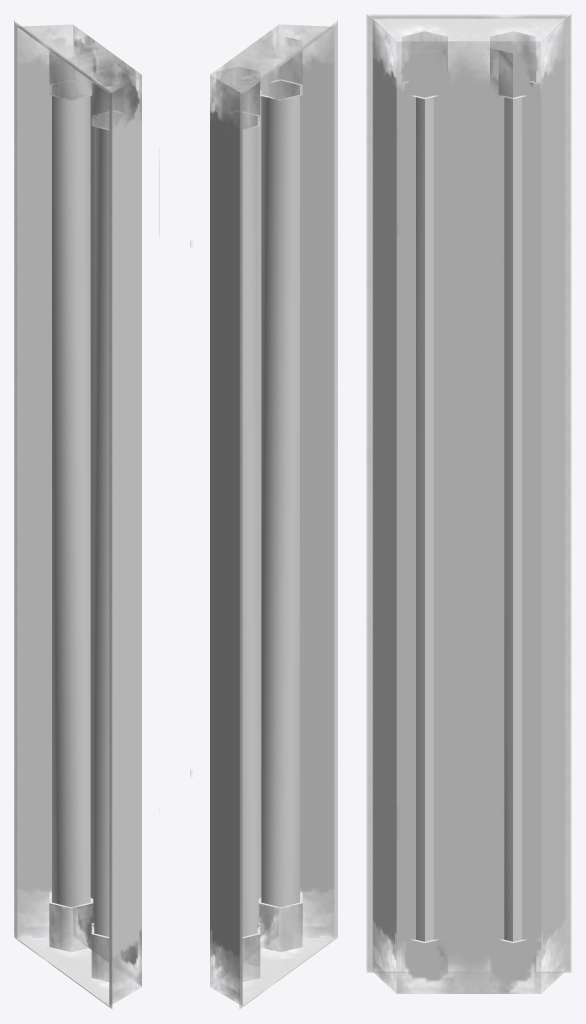
File: props_lights_light_fluorescent_basement.glb
3 renders of one model, left to right at view 1: azimuth 30°, elevation 25°; view 2: azimuth 150°, elevation 25°; view 3: azimuth 270°, elevation 25°, orthographic. The views are drawn at different scales.
Parts seen in each view (by area): view 1: models/props_lights/light_fluorescent_basement; view 2: models/props_lights/light_fluorescent_basement; view 3: models/props_lights/light_fluorescent_basement.
Part boxes in pixels (bbox=[...]): models/props_lights/light_fluorescent_basement: bbox=[14, 20, 141, 1008]; models/props_lights/light_fluorescent_basement: bbox=[190, 20, 337, 1008]; models/props_lights/light_fluorescent_basement: bbox=[366, 14, 571, 993].
Size of the model in its own units: 5.98 by 63.78 by 12.4.
1 material, 1 textured.
